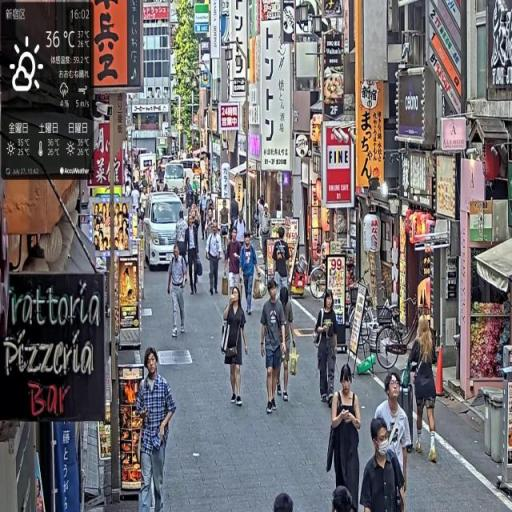person: (134, 346, 178, 512), (407, 311, 441, 466), (329, 364, 363, 512), (375, 372, 412, 499), (361, 416, 408, 512), (260, 276, 288, 416), (222, 285, 250, 407), (314, 291, 339, 408), (168, 245, 188, 340), (240, 233, 260, 320), (207, 223, 224, 298), (186, 212, 201, 294)
